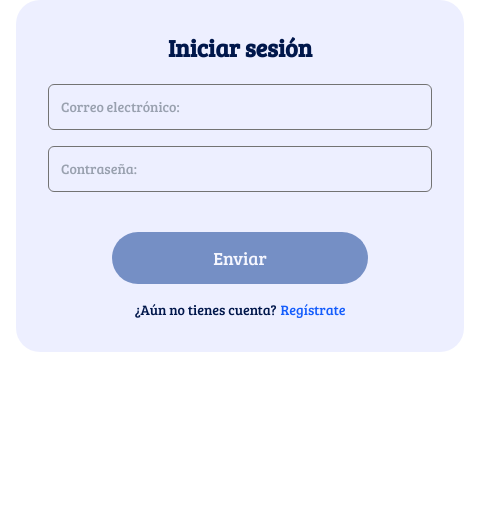
Test: LoginForm › debería renderizar el modal si se inicia sesión con éxito
This screenshot has width=481, height=509.
Type "test@example.com" into the field with placeholder "Correo electrónico:" at (240, 107), box [48, 84, 432, 130]
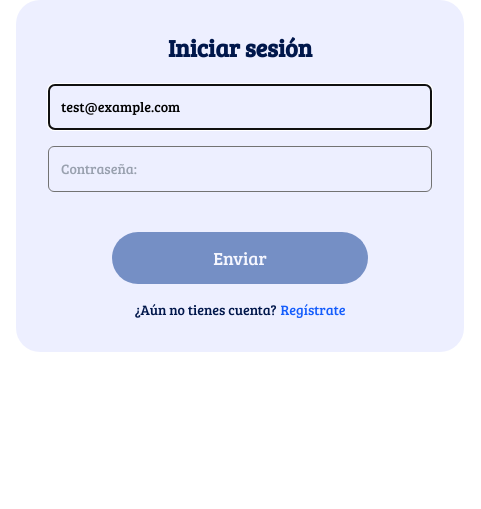
Type "1234" into the password field with placeholder "Contraseña:" at (240, 169), box [48, 146, 432, 192]
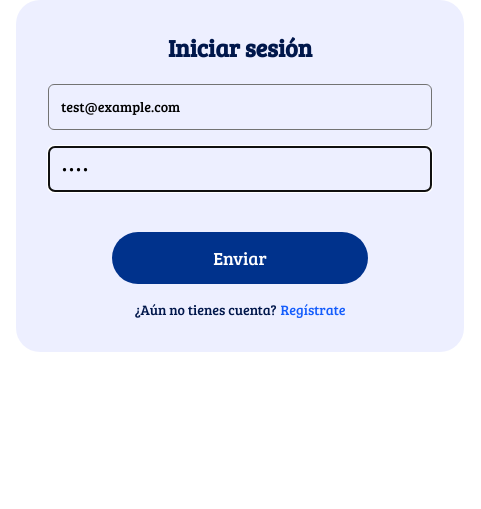
Click the button "Enviar" at (240, 258), box [112, 232, 368, 284]
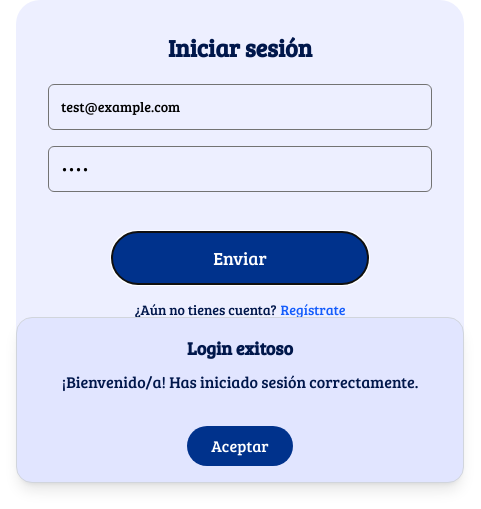
Expected: the text "¡Bienvenido/a! Has iniciado sesión correctamente." is shown, [41, 370, 439, 394]
